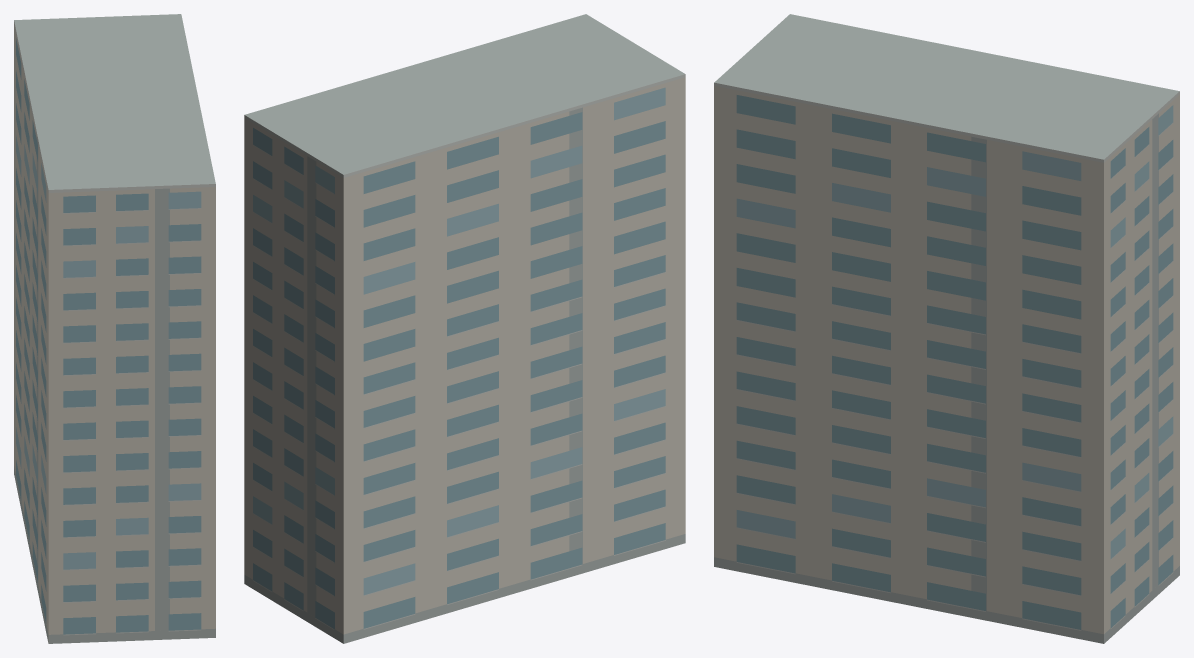
Rendered from residential-edf09107-f147-414f-bbfd-7fd30f180fb1.glb.
3 views of the same model, side by side, from view 1: azimuth 30°, elevation 25°; view 2: azimuth 150°, elevation 25°; view 3: azimuth 270°, elevation 25° (orthographic). The views are drawn at different scales.
Parts seen in each view (by area): view 1: residential-edf09107-f147-414f-bbfd-7fd30f180fb1.tmp; view 2: residential-edf09107-f147-414f-bbfd-7fd30f180fb1.tmp; view 3: residential-edf09107-f147-414f-bbfd-7fd30f180fb1.tmp.
Boxes of the visible parts, x1,y1,x2,y2 form: residential-edf09107-f147-414f-bbfd-7fd30f180fb1.tmp: (14, 14, 215, 643); residential-edf09107-f147-414f-bbfd-7fd30f180fb1.tmp: (244, 14, 685, 643); residential-edf09107-f147-414f-bbfd-7fd30f180fb1.tmp: (714, 14, 1179, 643).
Bounding box in the file's own units: 23.89 × 37 × 32.26.
